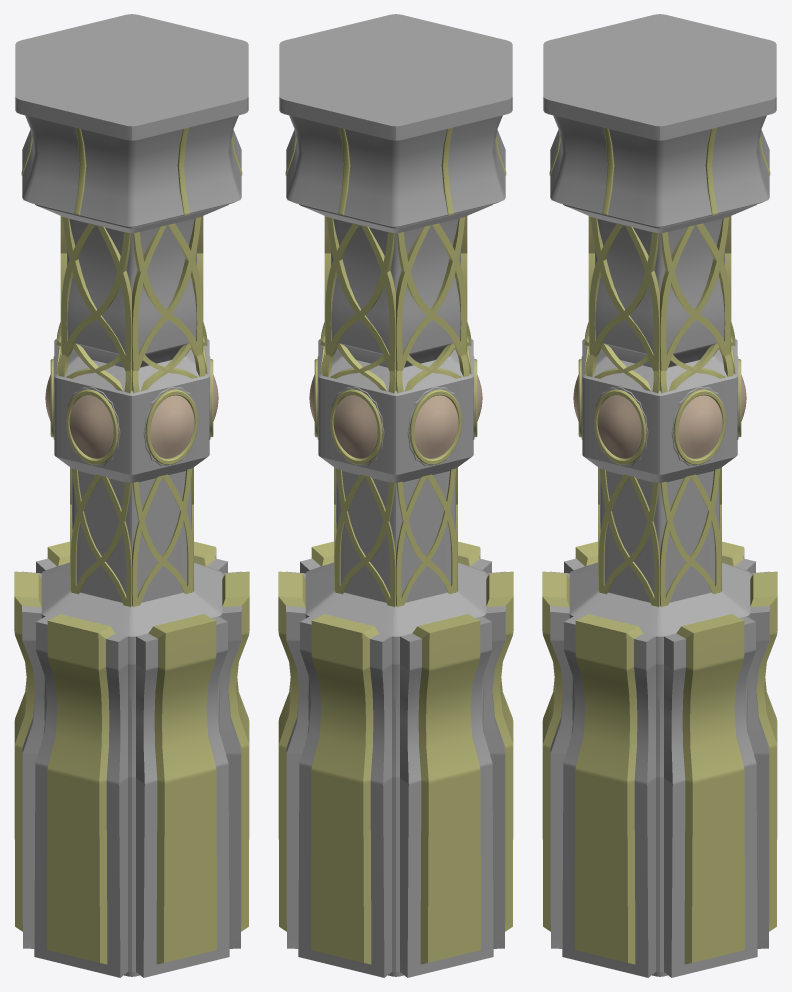
File: SM_Tristesse_Arche_01_MID.fbx
3 renders of one model, left to right at view 1: azimuth 30°, elevation 25°; view 2: azimuth 150°, elevation 25°; view 3: azimuth 270°, elevation 25°, orthographic.
Parts seen in each view (by area): view 1: SM_Tristesse_Pilonne_02; view 2: SM_Tristesse_Pilonne_02; view 3: SM_Tristesse_Pilonne_02.
Part boxes in pixels (bbox=[...]): SM_Tristesse_Pilonne_02: bbox=[14, 14, 249, 977]; SM_Tristesse_Pilonne_02: bbox=[278, 14, 513, 977]; SM_Tristesse_Pilonne_02: bbox=[542, 14, 777, 977].
Size of the model in its own units: 135 by 486 by 120.
